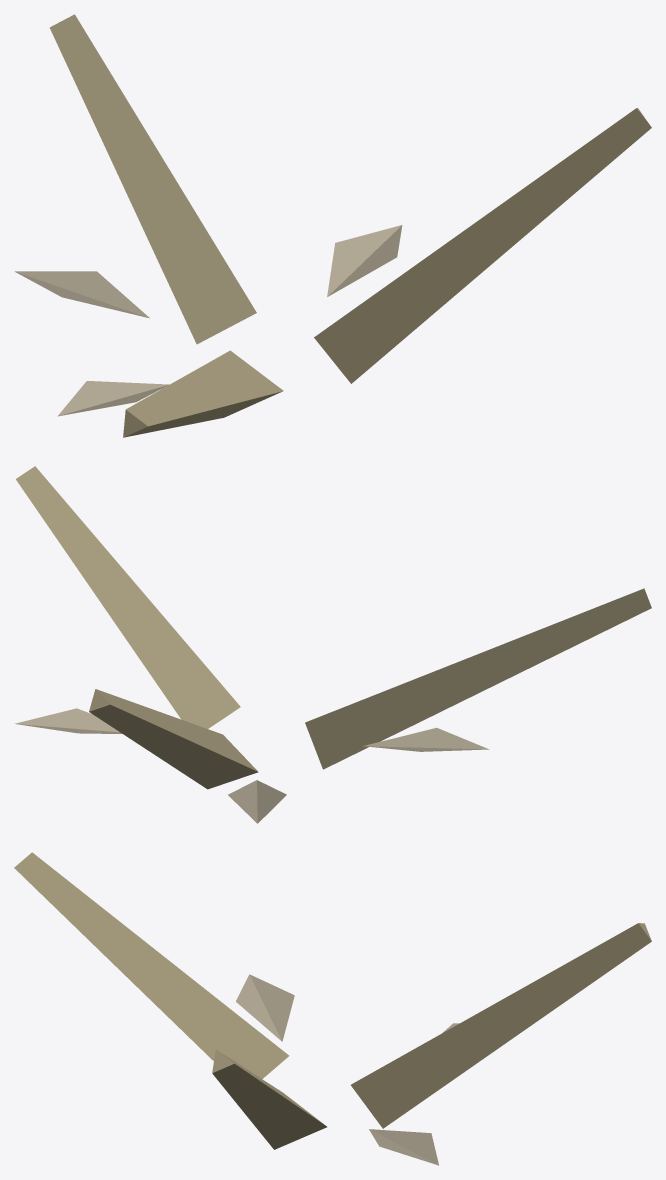
File: guan.fusang@withered__summer.glb
3 views of the same model, one above another, from view 1: azimuth 30°, elevation 25°; view 2: azimuth 150°, elevation 25°; view 3: azimuth 270°, elevation 25° (orthographic). The views are drawn at different scales.
Visible parts, largest first — view 1: guan.fusang@withered__summer; view 2: guan.fusang@withered__summer; view 3: guan.fusang@withered__summer.
Part boxes in pixels (box(x1,y1,x2,y2)): guan.fusang@withered__summer: box(14, 14, 651, 437); guan.fusang@withered__summer: box(14, 466, 651, 823); guan.fusang@withered__summer: box(14, 852, 651, 1165).
Size of the model in its own units: 0.9662 by 0.3527 by 0.9727.
